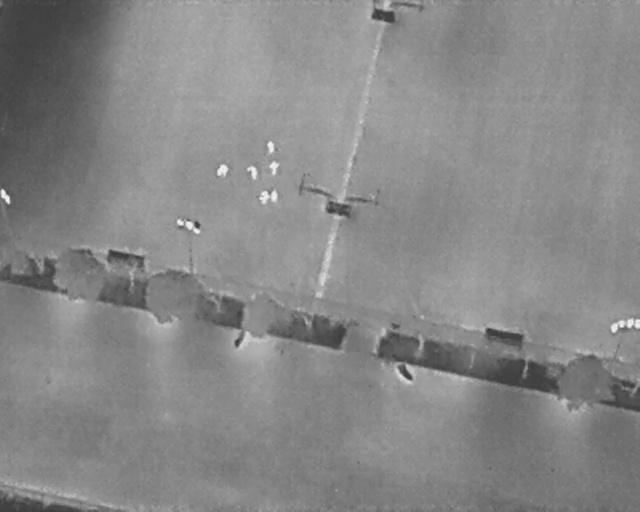Person: (269, 160, 281, 177), (258, 190, 271, 204), (217, 164, 229, 178), (247, 166, 258, 181), (267, 140, 275, 156), (271, 188, 278, 202)
